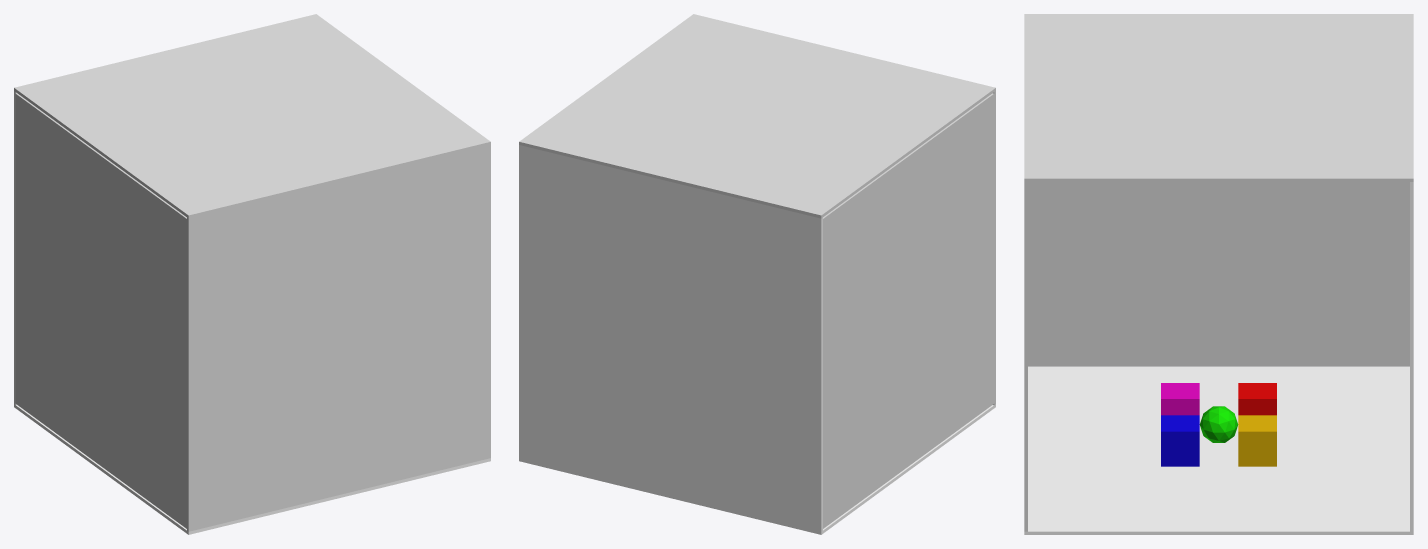
3 renders of one model, left to right at view 1: azimuth 30°, elevation 25°; view 2: azimuth 150°, elevation 25°; view 3: azimuth 270°, elevation 25°, orthographic. The views are drawn at different scales.
Visible parts, largest first — view 1: PlaneRight, PlaneBack, PlaneTop, PlaneBottom, PlaneLeft; view 2: PlaneLeft, PlaneBack, PlaneTop, PlaneBottom, PlaneRight; view 3: PlaneBack, PlaneTop, PlaneBottom, Cube, Cube3, PlaneLeft, PlaneRight, Cube1, Cube2, Sphere.
Part boxes in pixels (x1,y1,x2,y2): PlaneRight: (187,145,490,531); PlaneBack: (15,93,186,528); PlaneTop: (14,14,490,218); PlaneBottom: (14,404,490,534); PlaneLeft: (14,91,16,405); PlaneLeft: (519,145,822,531); PlaneBack: (823,93,994,528); PlaneTop: (519,14,995,218); PlaneBottom: (519,404,995,534); PlaneRight: (993,91,995,405); PlaneBack: (1028,182,1409,366); PlaneTop: (1024,14,1413,181); PlaneBottom: (1024,367,1413,534); Cube: (1161,415,1199,466); Cube3: (1238,415,1276,466); PlaneLeft: (1410,182,1413,531); PlaneRight: (1024,182,1027,531); Cube1: (1161,383,1199,415); Cube2: (1238,383,1276,415); Sphere: (1199,406,1238,442).
Size of the model in its own units: 202 by 204 by 202.
